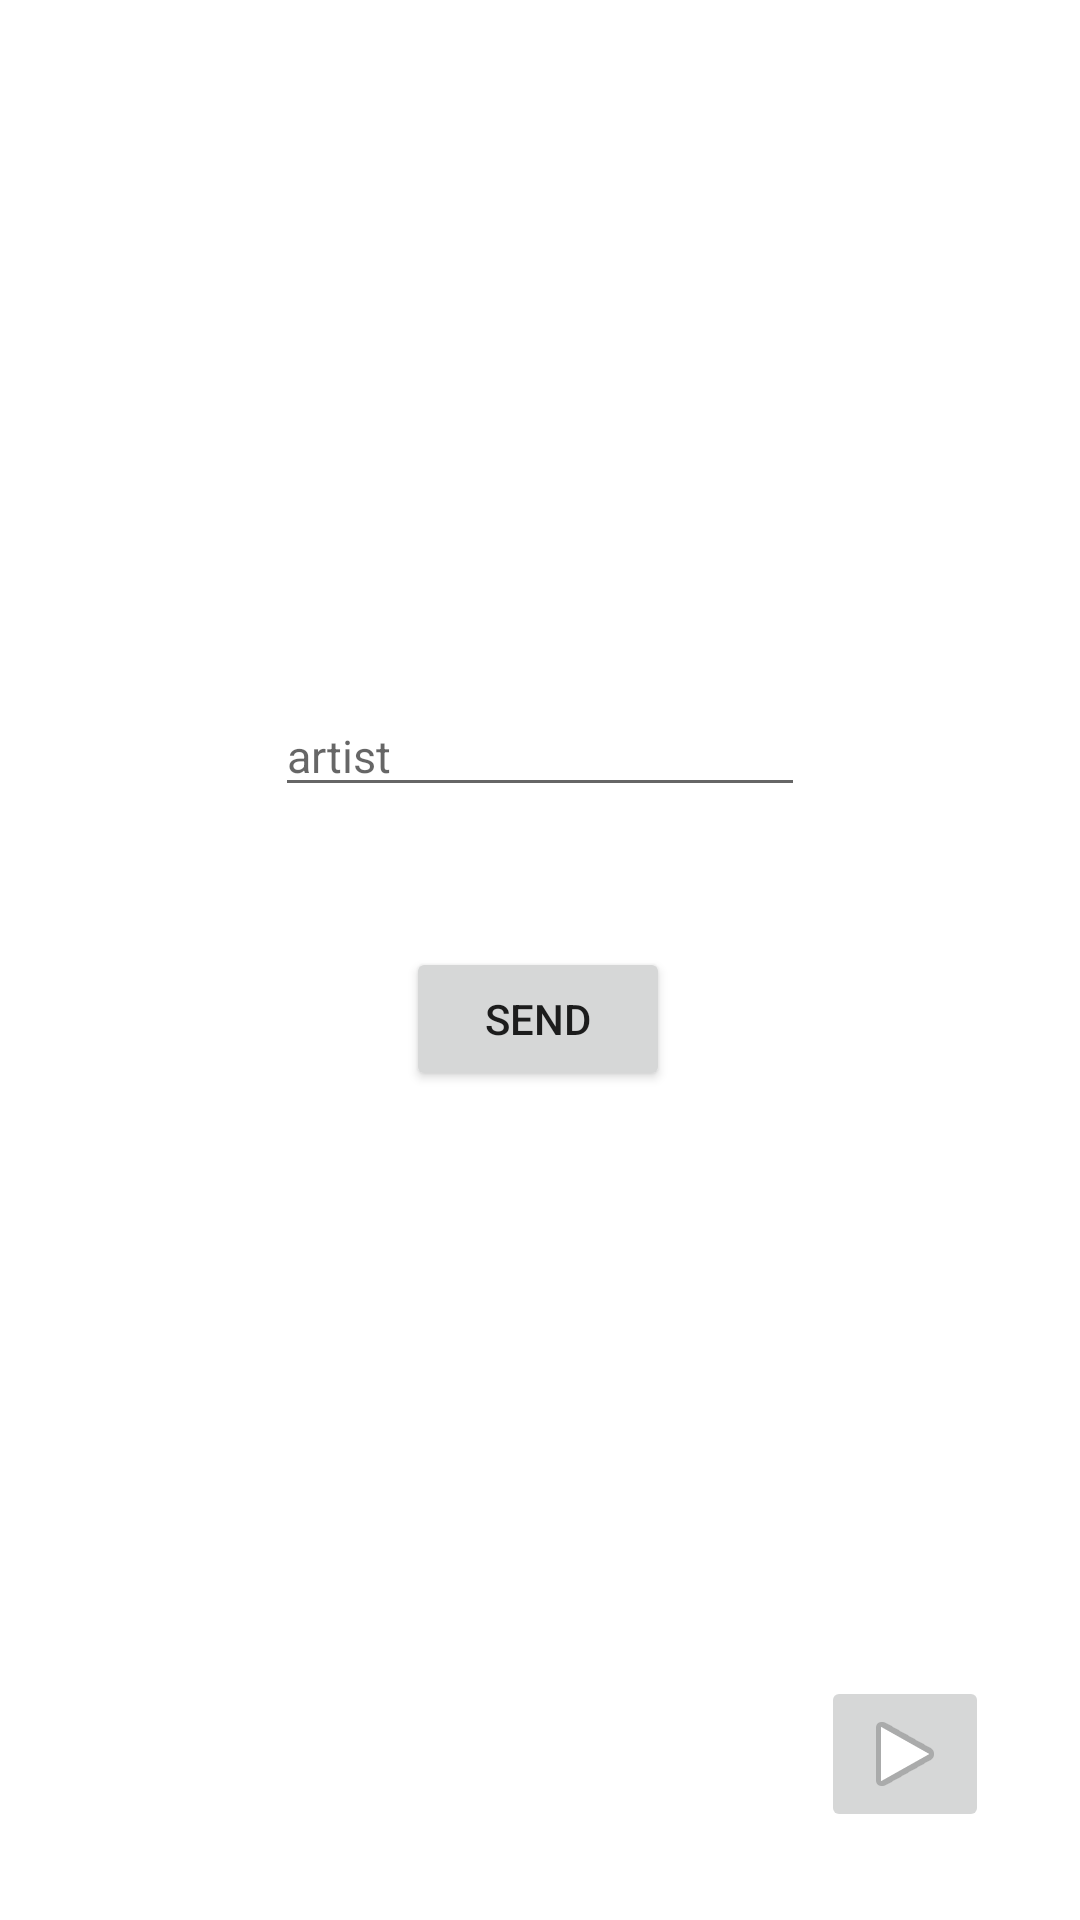

Icons on this 1080*1920 Android screen, each with its box as [x1,y1,x2,y2]:
This is a next button: [833,1694,977,1814]
